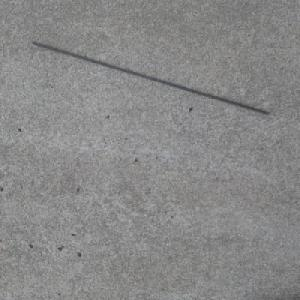LuggagePart: (30, 41, 271, 115)
